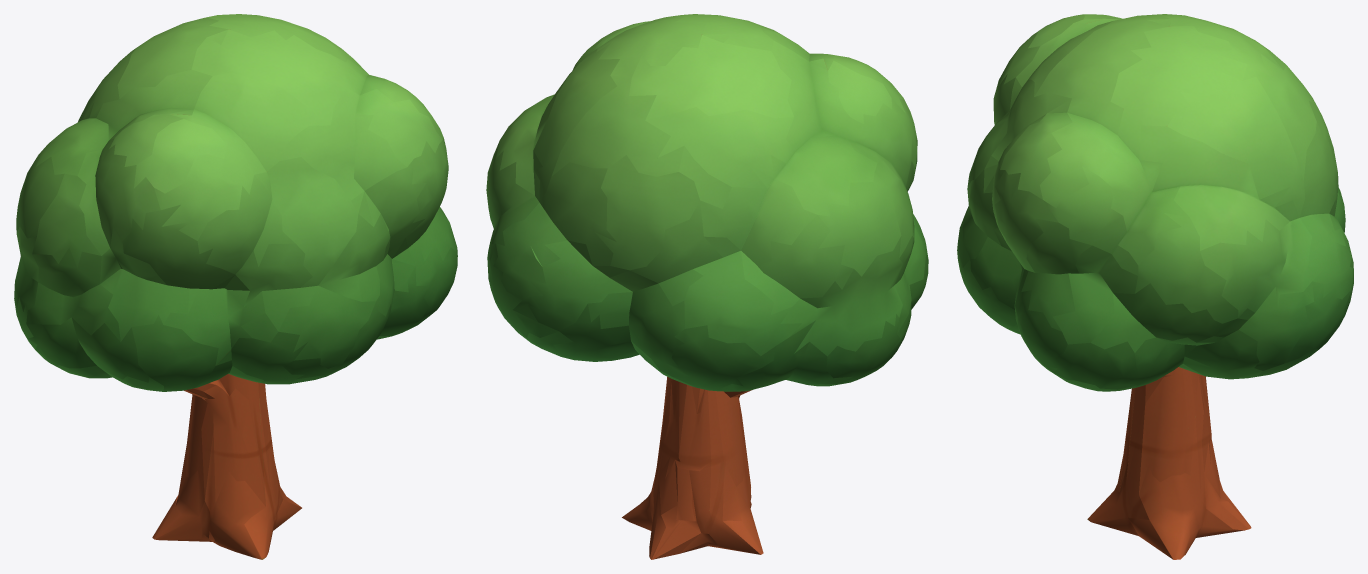
File: tree-round.glb
The picture shows the model from 3 angles, left to right: view 1: azimuth 30°, elevation 25°; view 2: azimuth 150°, elevation 25°; view 3: azimuth 270°, elevation 25°; orthographic projection.
Size of the model in its own units: 1.57 by 1.9 by 1.38.
1 material, 1 textured.
